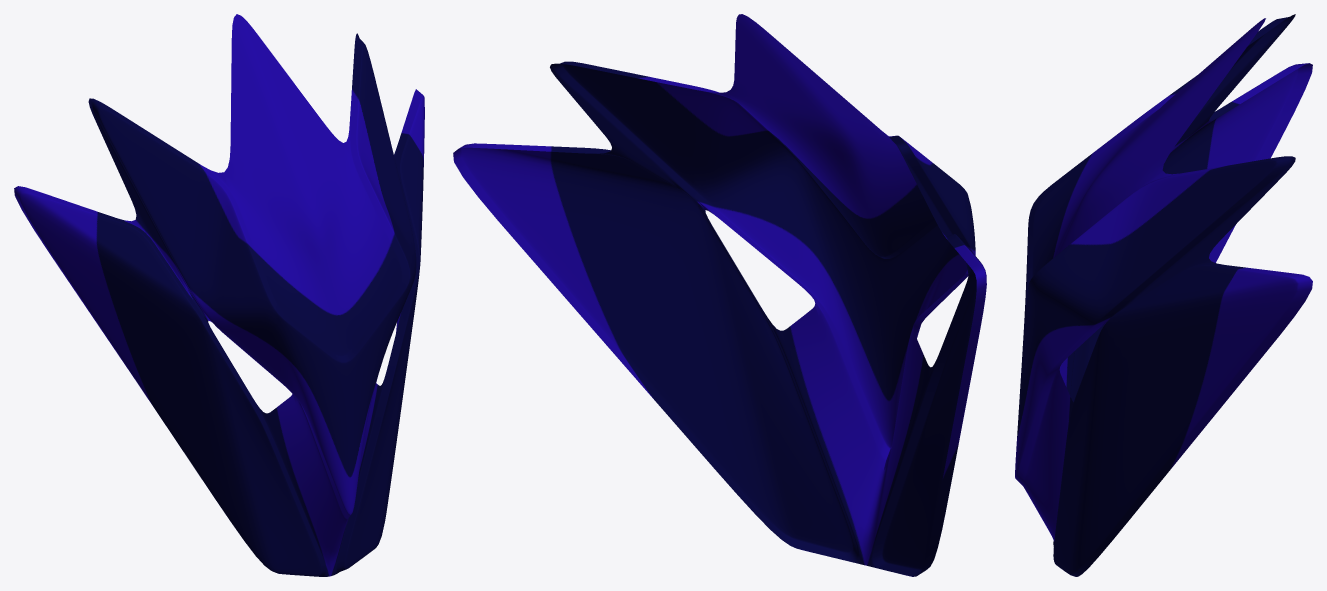
Rendered from basicmodel.glb.
3 renders of one model, left to right at view 1: azimuth 30°, elevation 25°; view 2: azimuth 150°, elevation 25°; view 3: azimuth 270°, elevation 25°, orthographic. The views are drawn at different scales.
Parts seen in each view (by area): view 1: DronPro_Mask_Smooth; view 2: DronPro_Mask_Smooth; view 3: DronPro_Mask_Smooth.
Part boxes in pixels (x1=…): DronPro_Mask_Smooth: x1=14, y1=14, x2=424, y2=576; DronPro_Mask_Smooth: x1=453, y1=14, x2=986, y2=576; DronPro_Mask_Smooth: x1=1015, y1=14, x2=1312, y2=576.
Bounding box in the file's own units: 1.76 × 2.06 × 1.02.
Materials: 1 (1 with a texture image).
